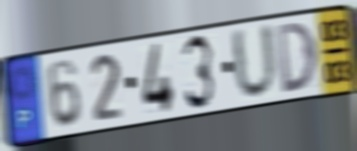2: (88, 51, 125, 124)
3: (179, 32, 221, 112)
4: (141, 41, 177, 117)
6: (45, 57, 83, 131)
D: (274, 19, 320, 96)
U: (229, 20, 281, 103)
